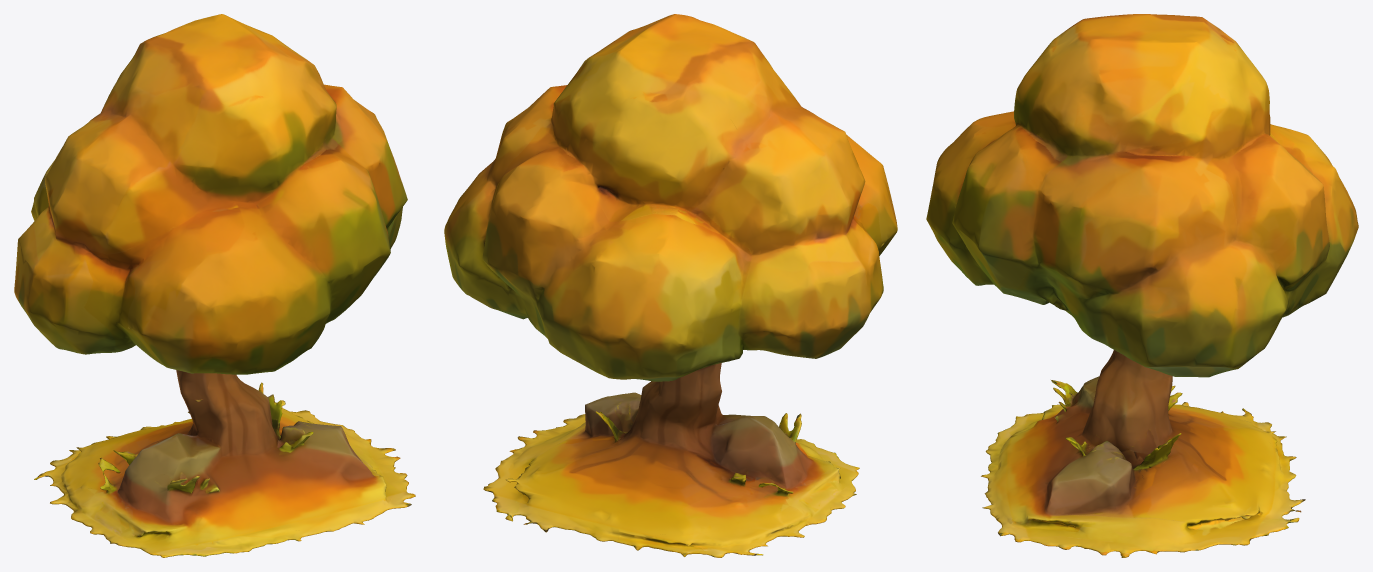
Rendered from meshy_019a758b-9b8b-71de-9f91-994d26c8d4d6.fbx.
3 renders of one model, left to right at view 1: azimuth 30°, elevation 25°; view 2: azimuth 150°, elevation 25°; view 3: azimuth 270°, elevation 25°, orthographic.
Visible parts, largest first — view 1: input; view 2: input; view 3: input.
Boxes of the visible parts, <box> form: input: <box>14,14,415,557</box>; input: <box>444,14,897,557</box>; input: <box>926,14,1358,557</box>.
Bounding box in the file's own units: 181 × 200 × 174.
Materials: 1 (1 with a texture image).
